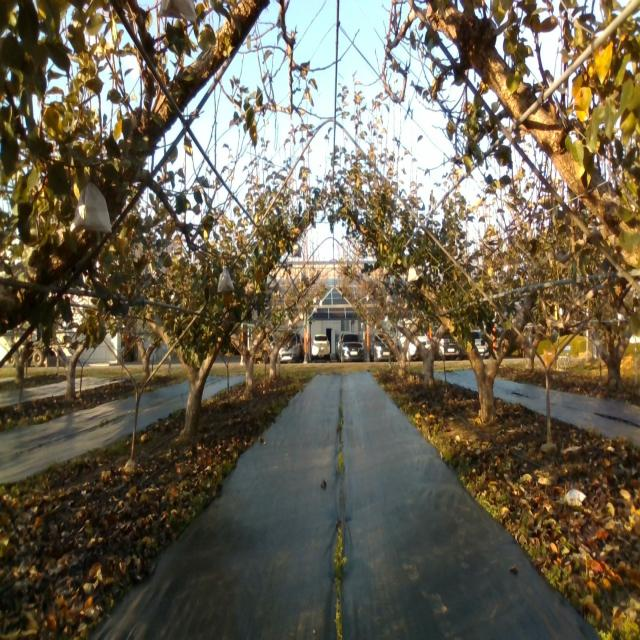pearbags: (70, 184, 112, 232), (217, 268, 234, 293), (408, 267, 418, 283)
